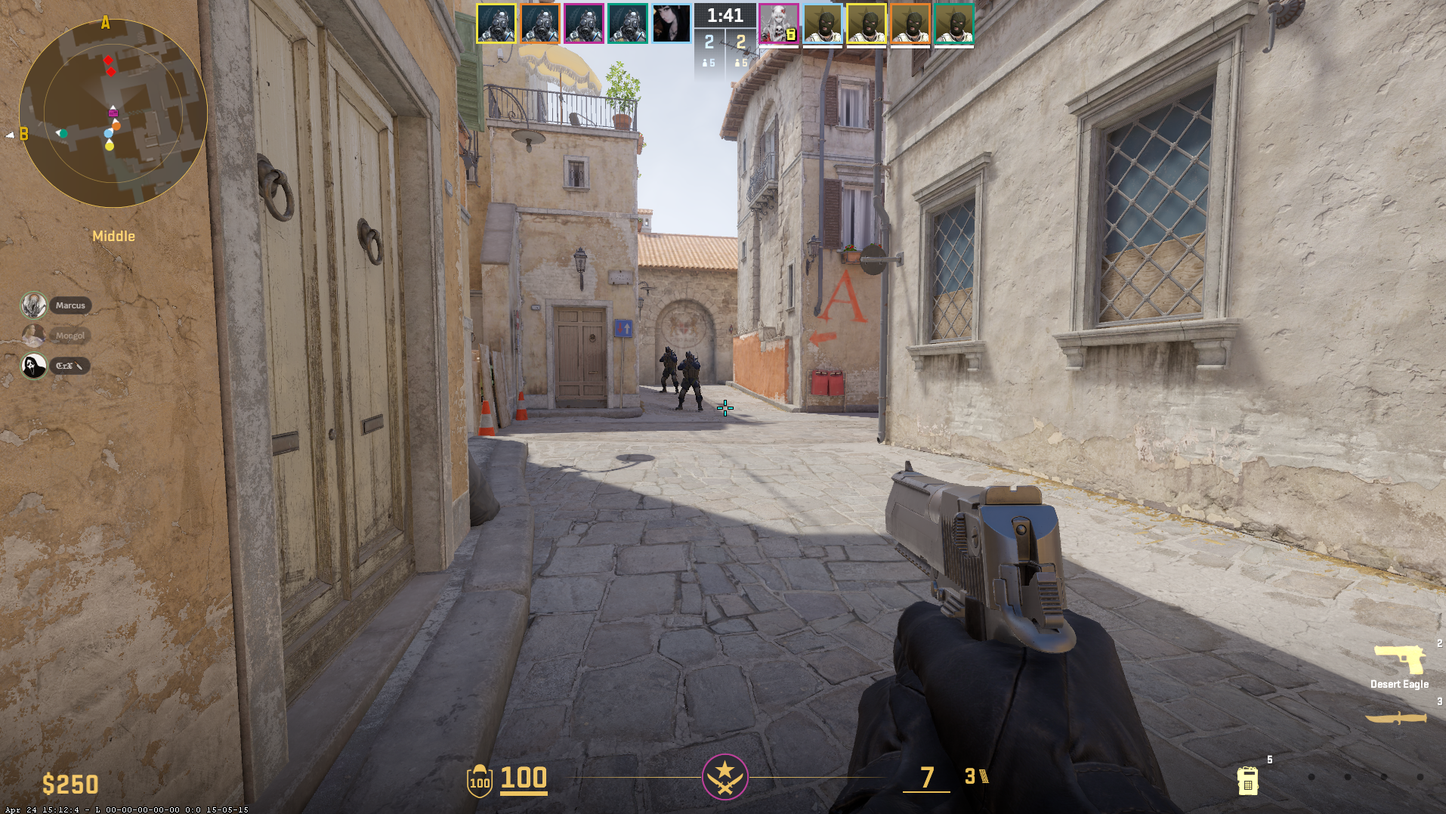CT: (673, 349, 703, 411), (659, 345, 679, 395)
